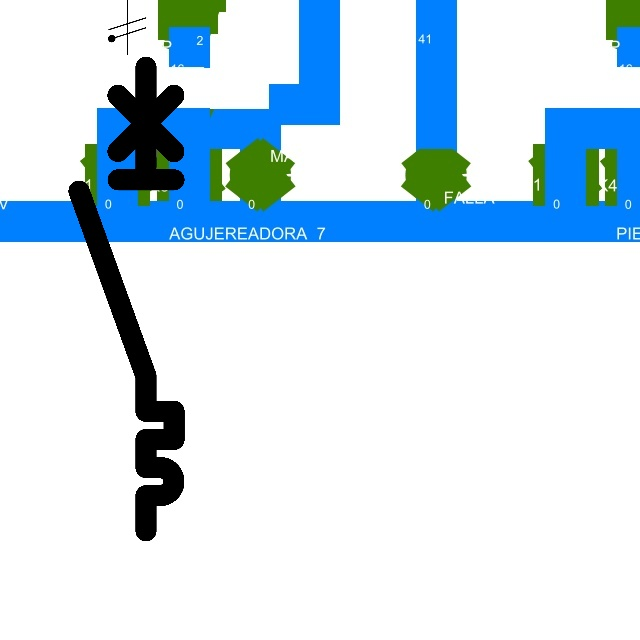interruptor_termomagnetico: (67, 55, 186, 543)
